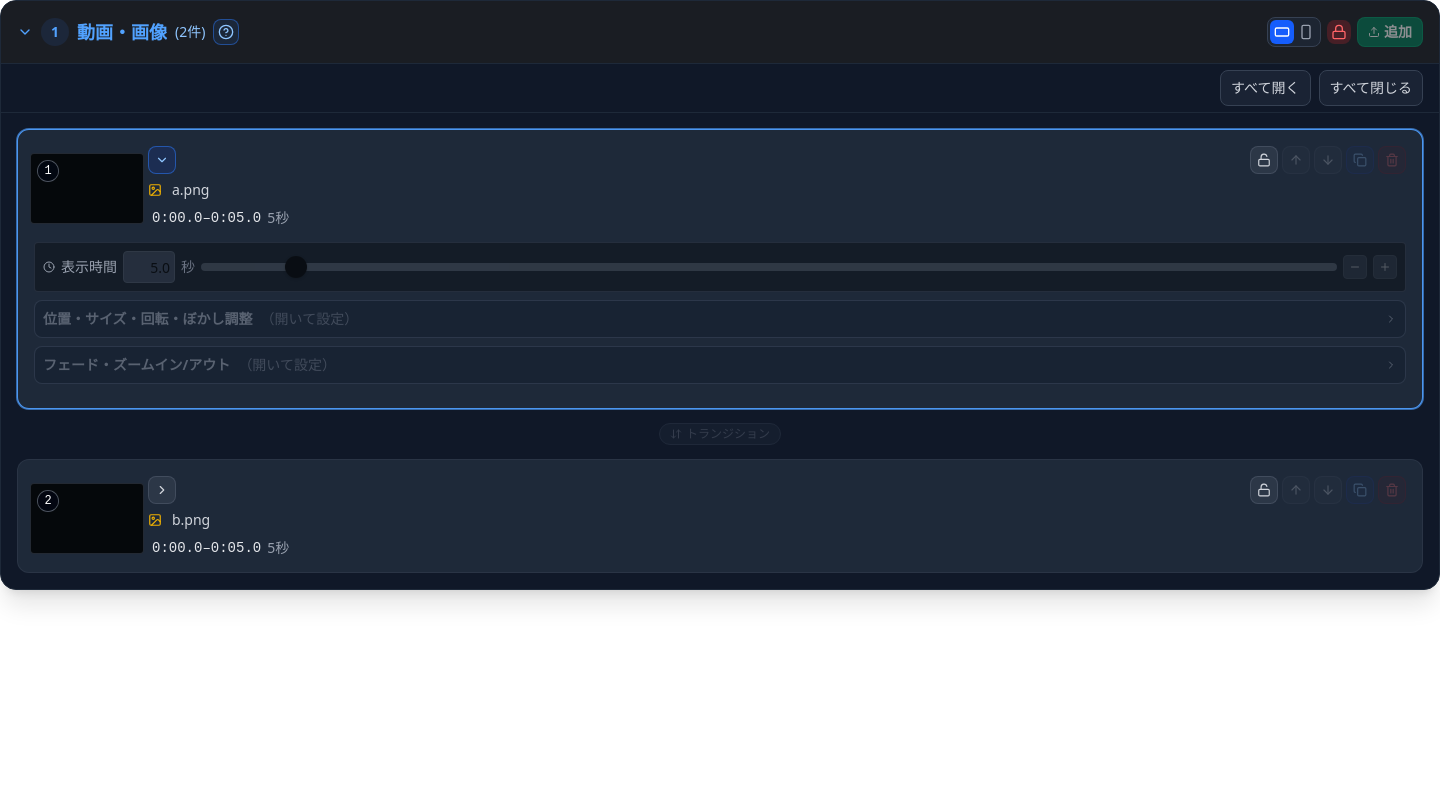
Test: 動画・画像カードの折りたたみ › セクションがロック中でもまとめて開閉できる
This screenshot has width=1440, height=810.
Click the button "すべて開く" at (1265, 88), box [1220,70,1311,106]
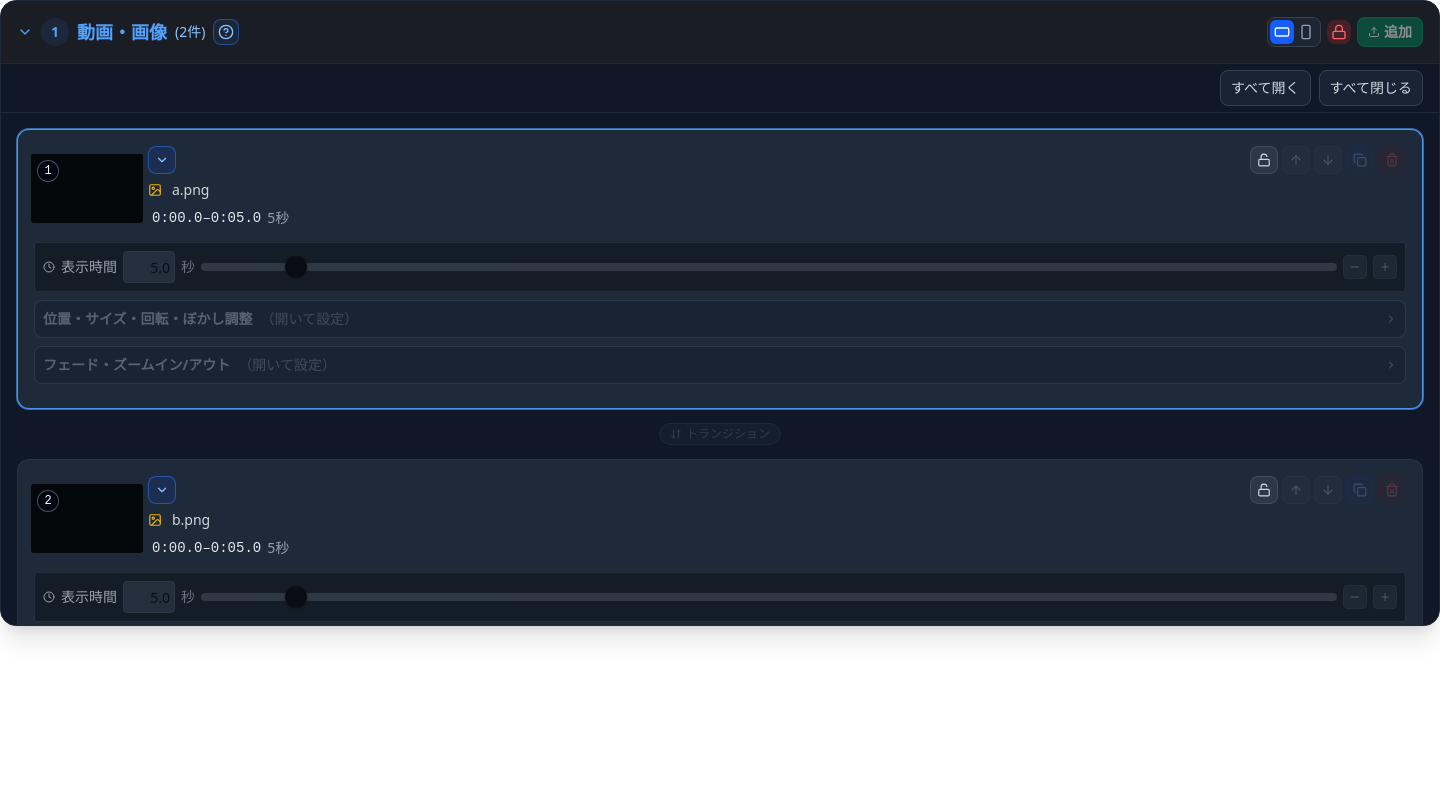
Result: the number of sliders named "画像の表示時間" is 2 at [201,265,1337,269]; [201,595,1337,599]
Click the button "すべて閉じる" at (1371, 88), box [1318,70,1423,106]
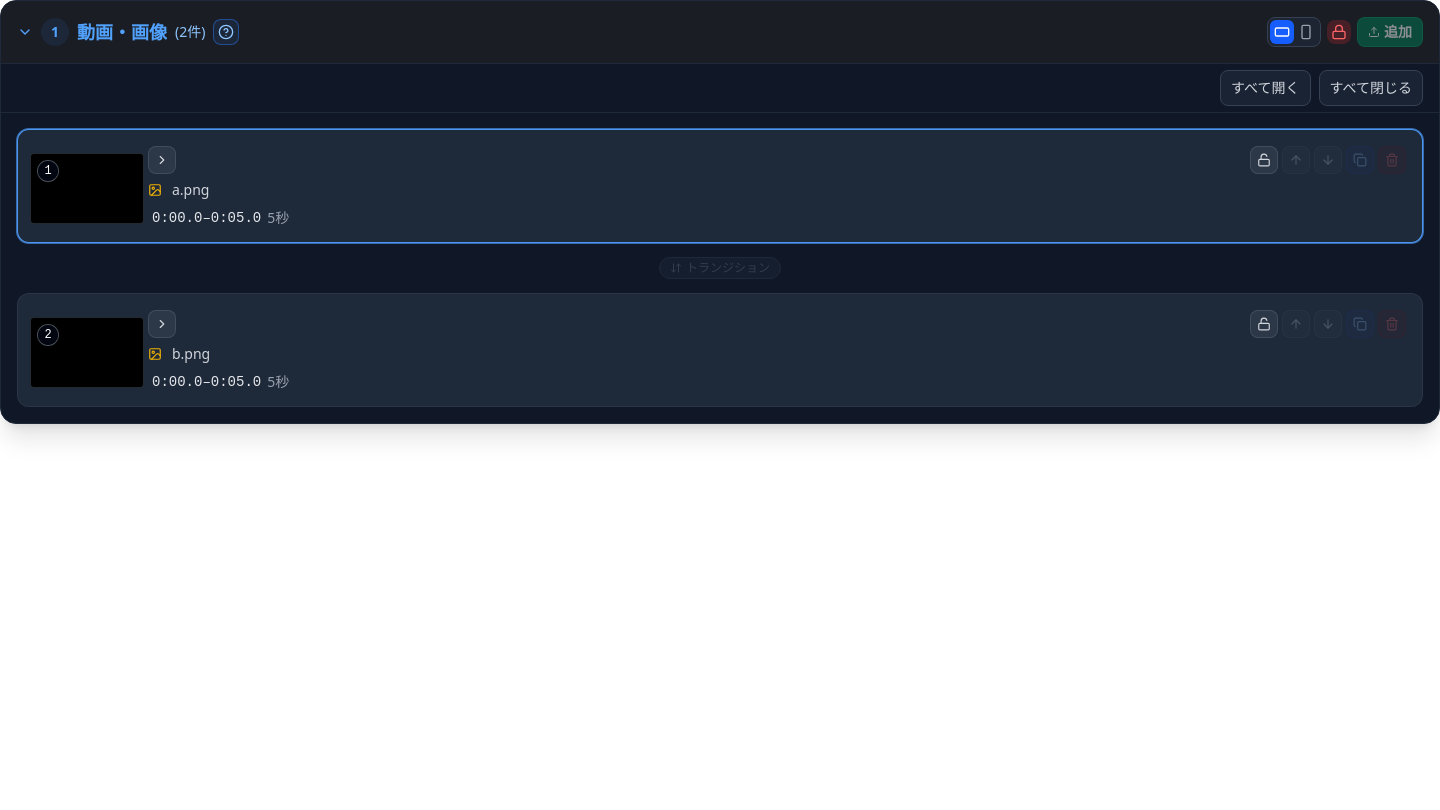
Result: no sliders labelled "画像の表示時間" are shown
